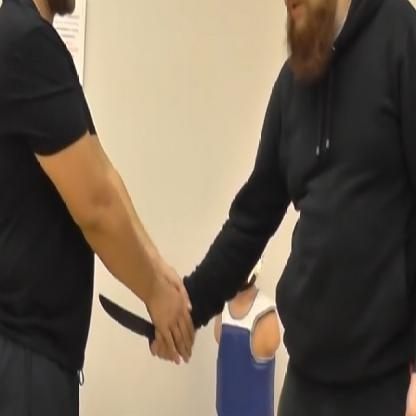knife: (96, 286, 196, 368)
